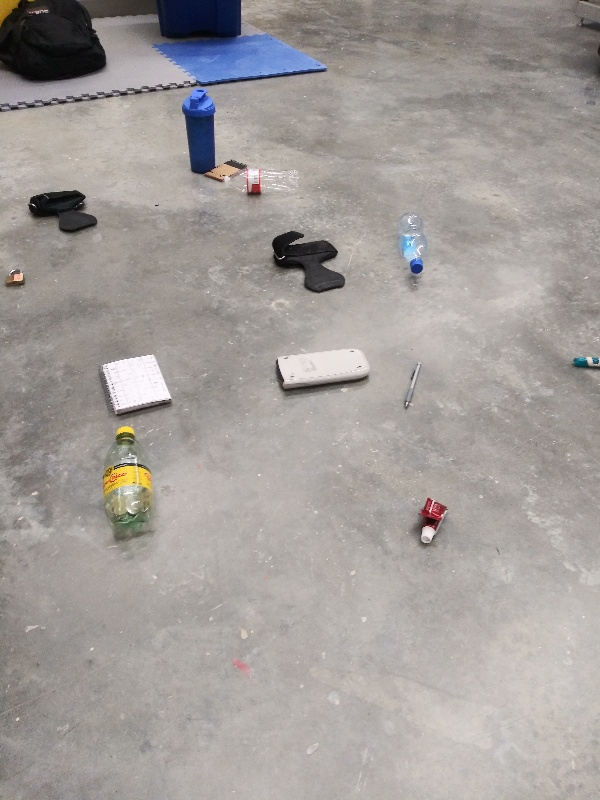bottle: (97, 422, 165, 536), (218, 166, 309, 201), (394, 210, 434, 278)
